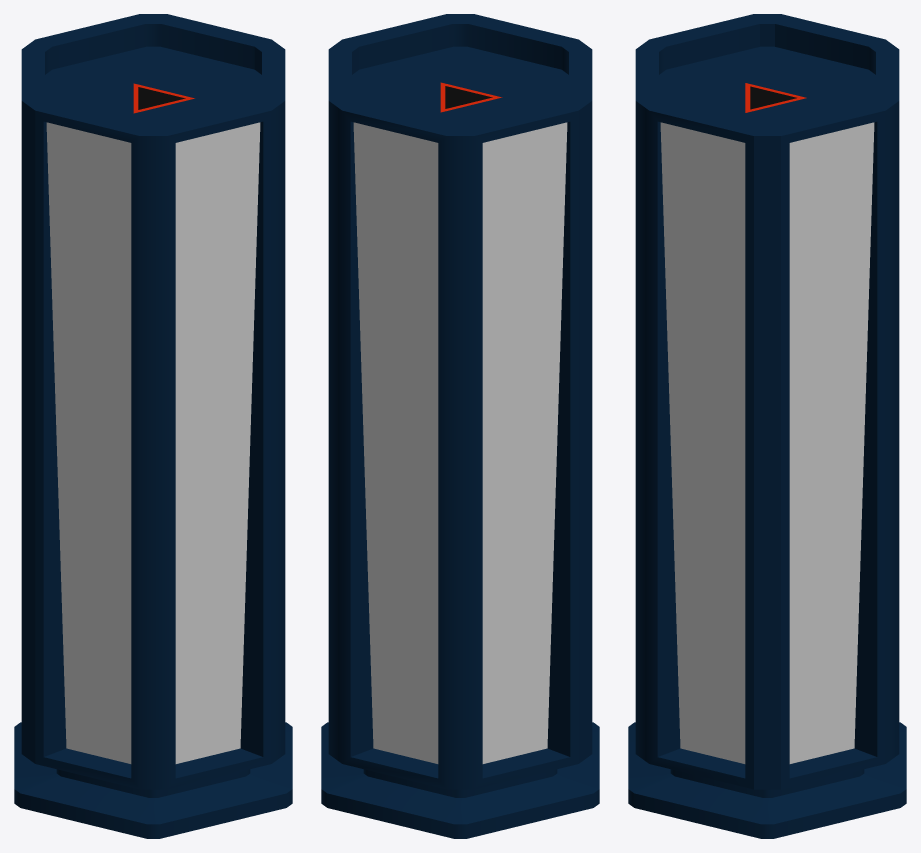
The model's file is desk_key._unlock.fbx.
The picture shows the model from 3 angles, left to right: view 1: azimuth 30°, elevation 25°; view 2: azimuth 150°, elevation 25°; view 3: azimuth 270°, elevation 25°; orthographic projection.
Parts seen in each view (by area): view 1: desk_key._unlock; view 2: desk_key._unlock; view 3: desk_key._unlock.
Part boxes in pixels (x1,y1,x2,y2): desk_key._unlock: (14,14,292,838); desk_key._unlock: (321,14,599,838); desk_key._unlock: (628,14,906,838).
Bounding box in the file's own units: 41.39 × 101 × 36.65.
